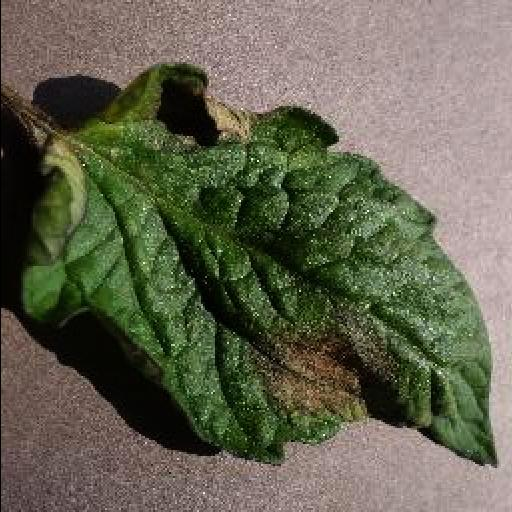disease_tomato: (12, 61, 498, 471)
